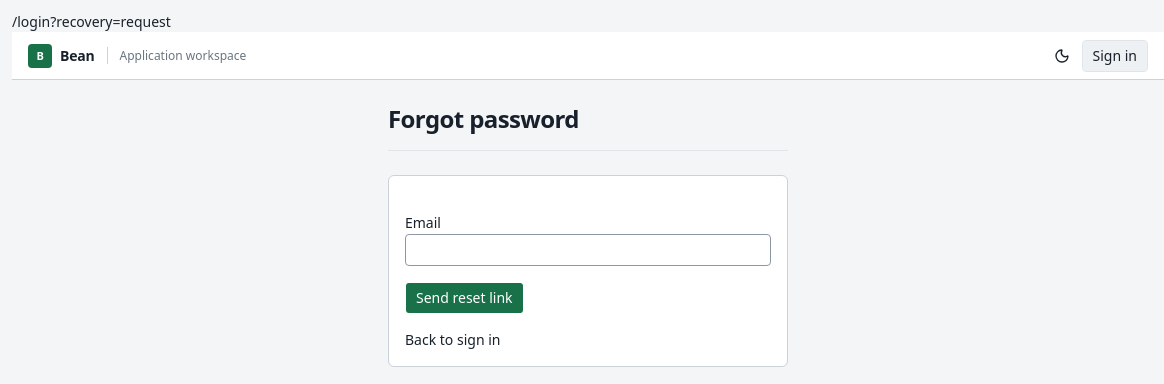
uses a generic queued response and blocks duplicate requests while pending
Check: the button "Send reset link" is shown, box [405,282,524,314]
Type "missing@example.test" into the field labelled "Email". click: (588, 250)
box: [405,234,771,266]
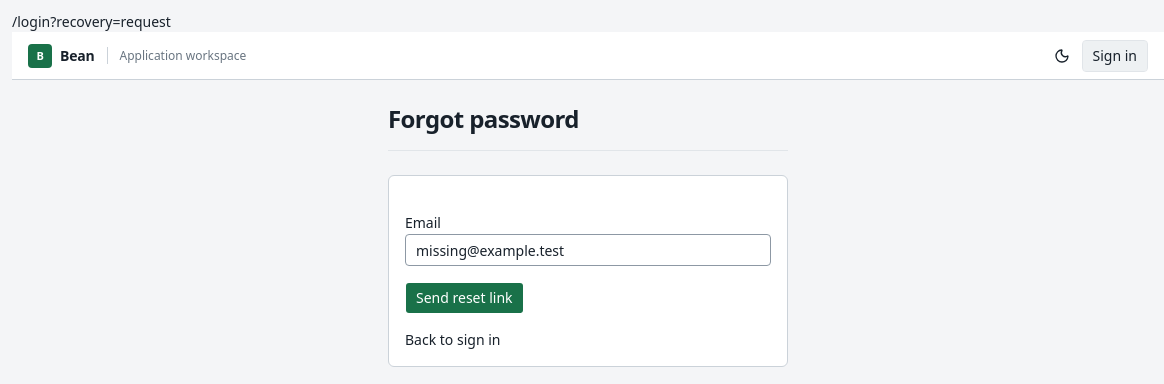
Submit the form "Send reset link", box [405,216,771,314]
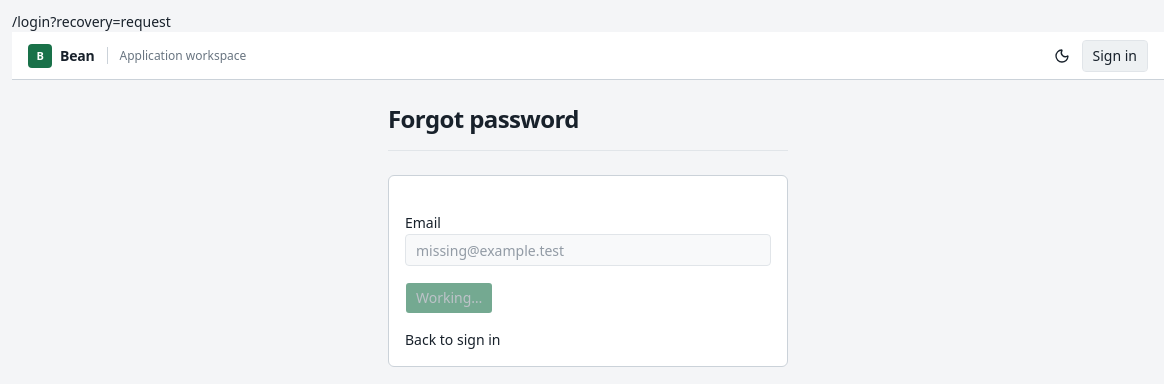
Submit the form named "Send reset link", box [405,216,771,314]
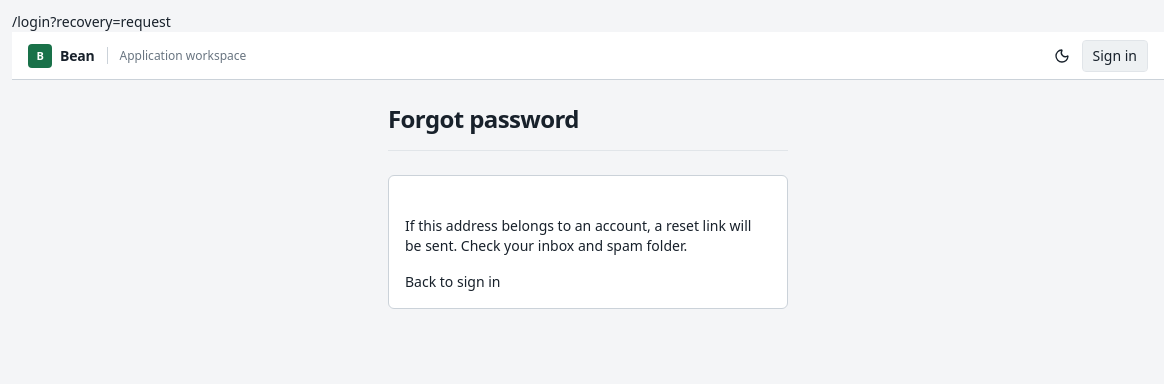
Check: the message shows "If this address belongs to an account", box [405,216,751,255]
